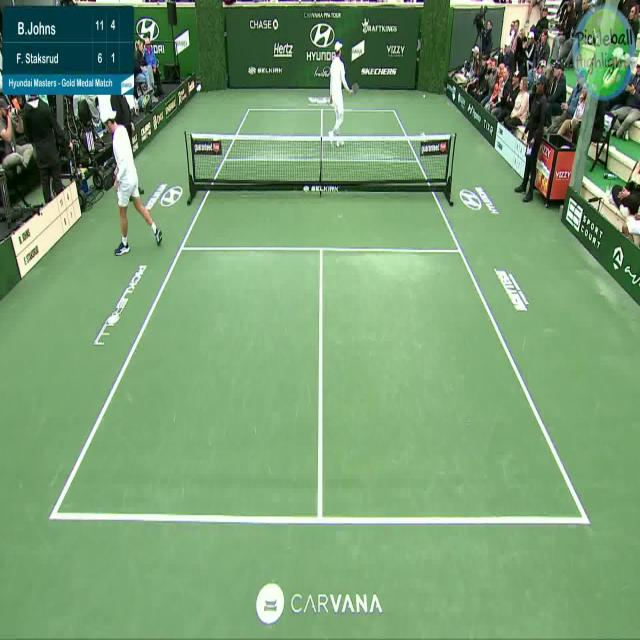ball: (422, 92, 427, 99)
